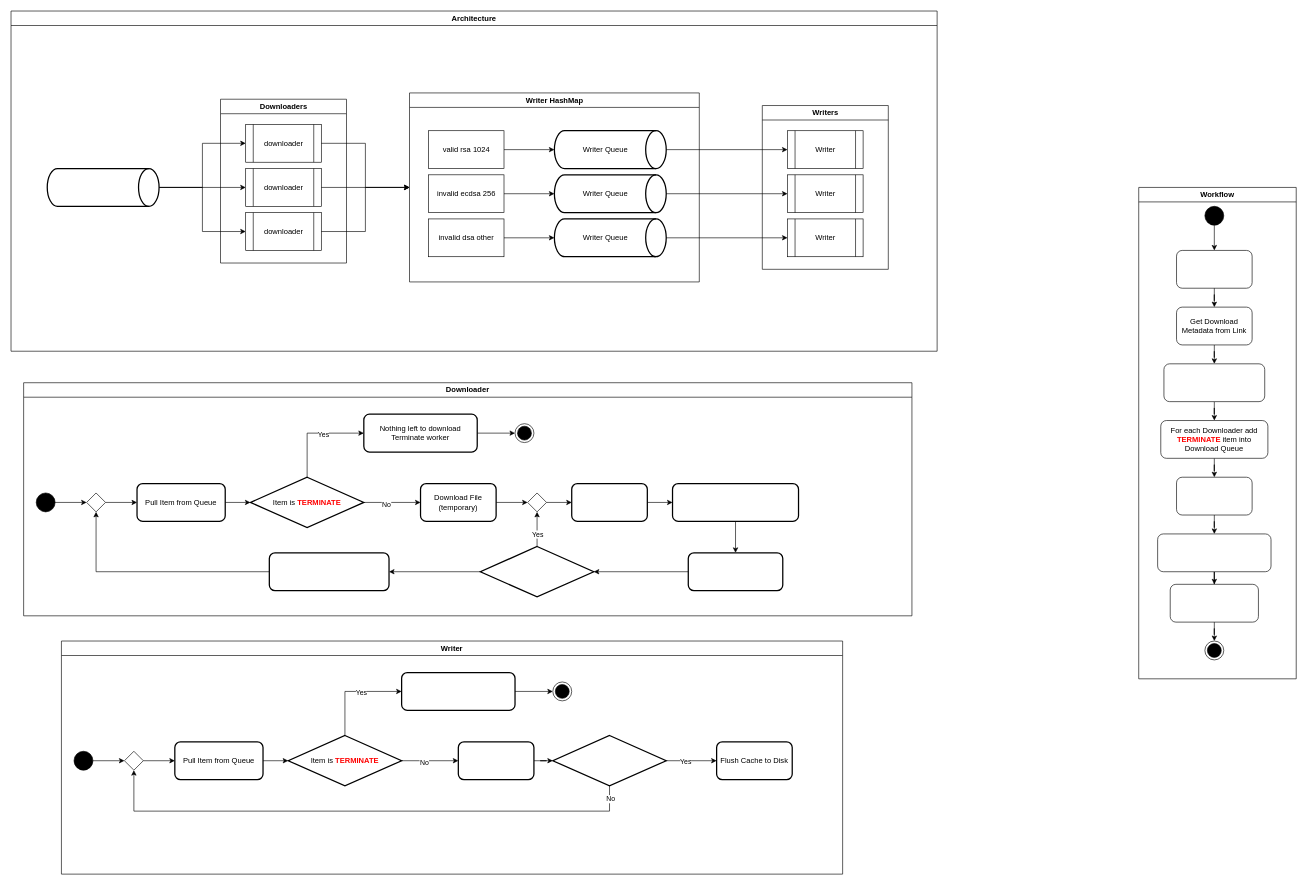
This 1307x885 diagram has some shape labels left out. Here are the shapes that lost their labels. From the top down, the centre of each, then its label:
At point 102,187: "Download Queue".
At point 1214,269: "Get Latest Snapshot Link".
At point 1214,382: "Fill Download Queue with (Filename, URL, Hash)".
At point 609,502: "Parse Certificate".
At point 735,502: "Find Related Writer Queue from Writer HashMap".
At point 1214,496: "Await Termination of all Downloaders".
At point 328,571: "Delete Downloaded File".
At point 536,571: "More Items".
At point 735,571: "Send Parsed Certificate into Writer Queue".
At point 1214,552: "For each Writer add TERMINATE item into its Queue".
At point 1214,603: "Await Termination of all Writers".
At point 458,691: "Nothing left to Write Flush Buffers Terminate worker".
At point 495,760: "Add Item to Cache".
At point 609,760: "Cache Full".
